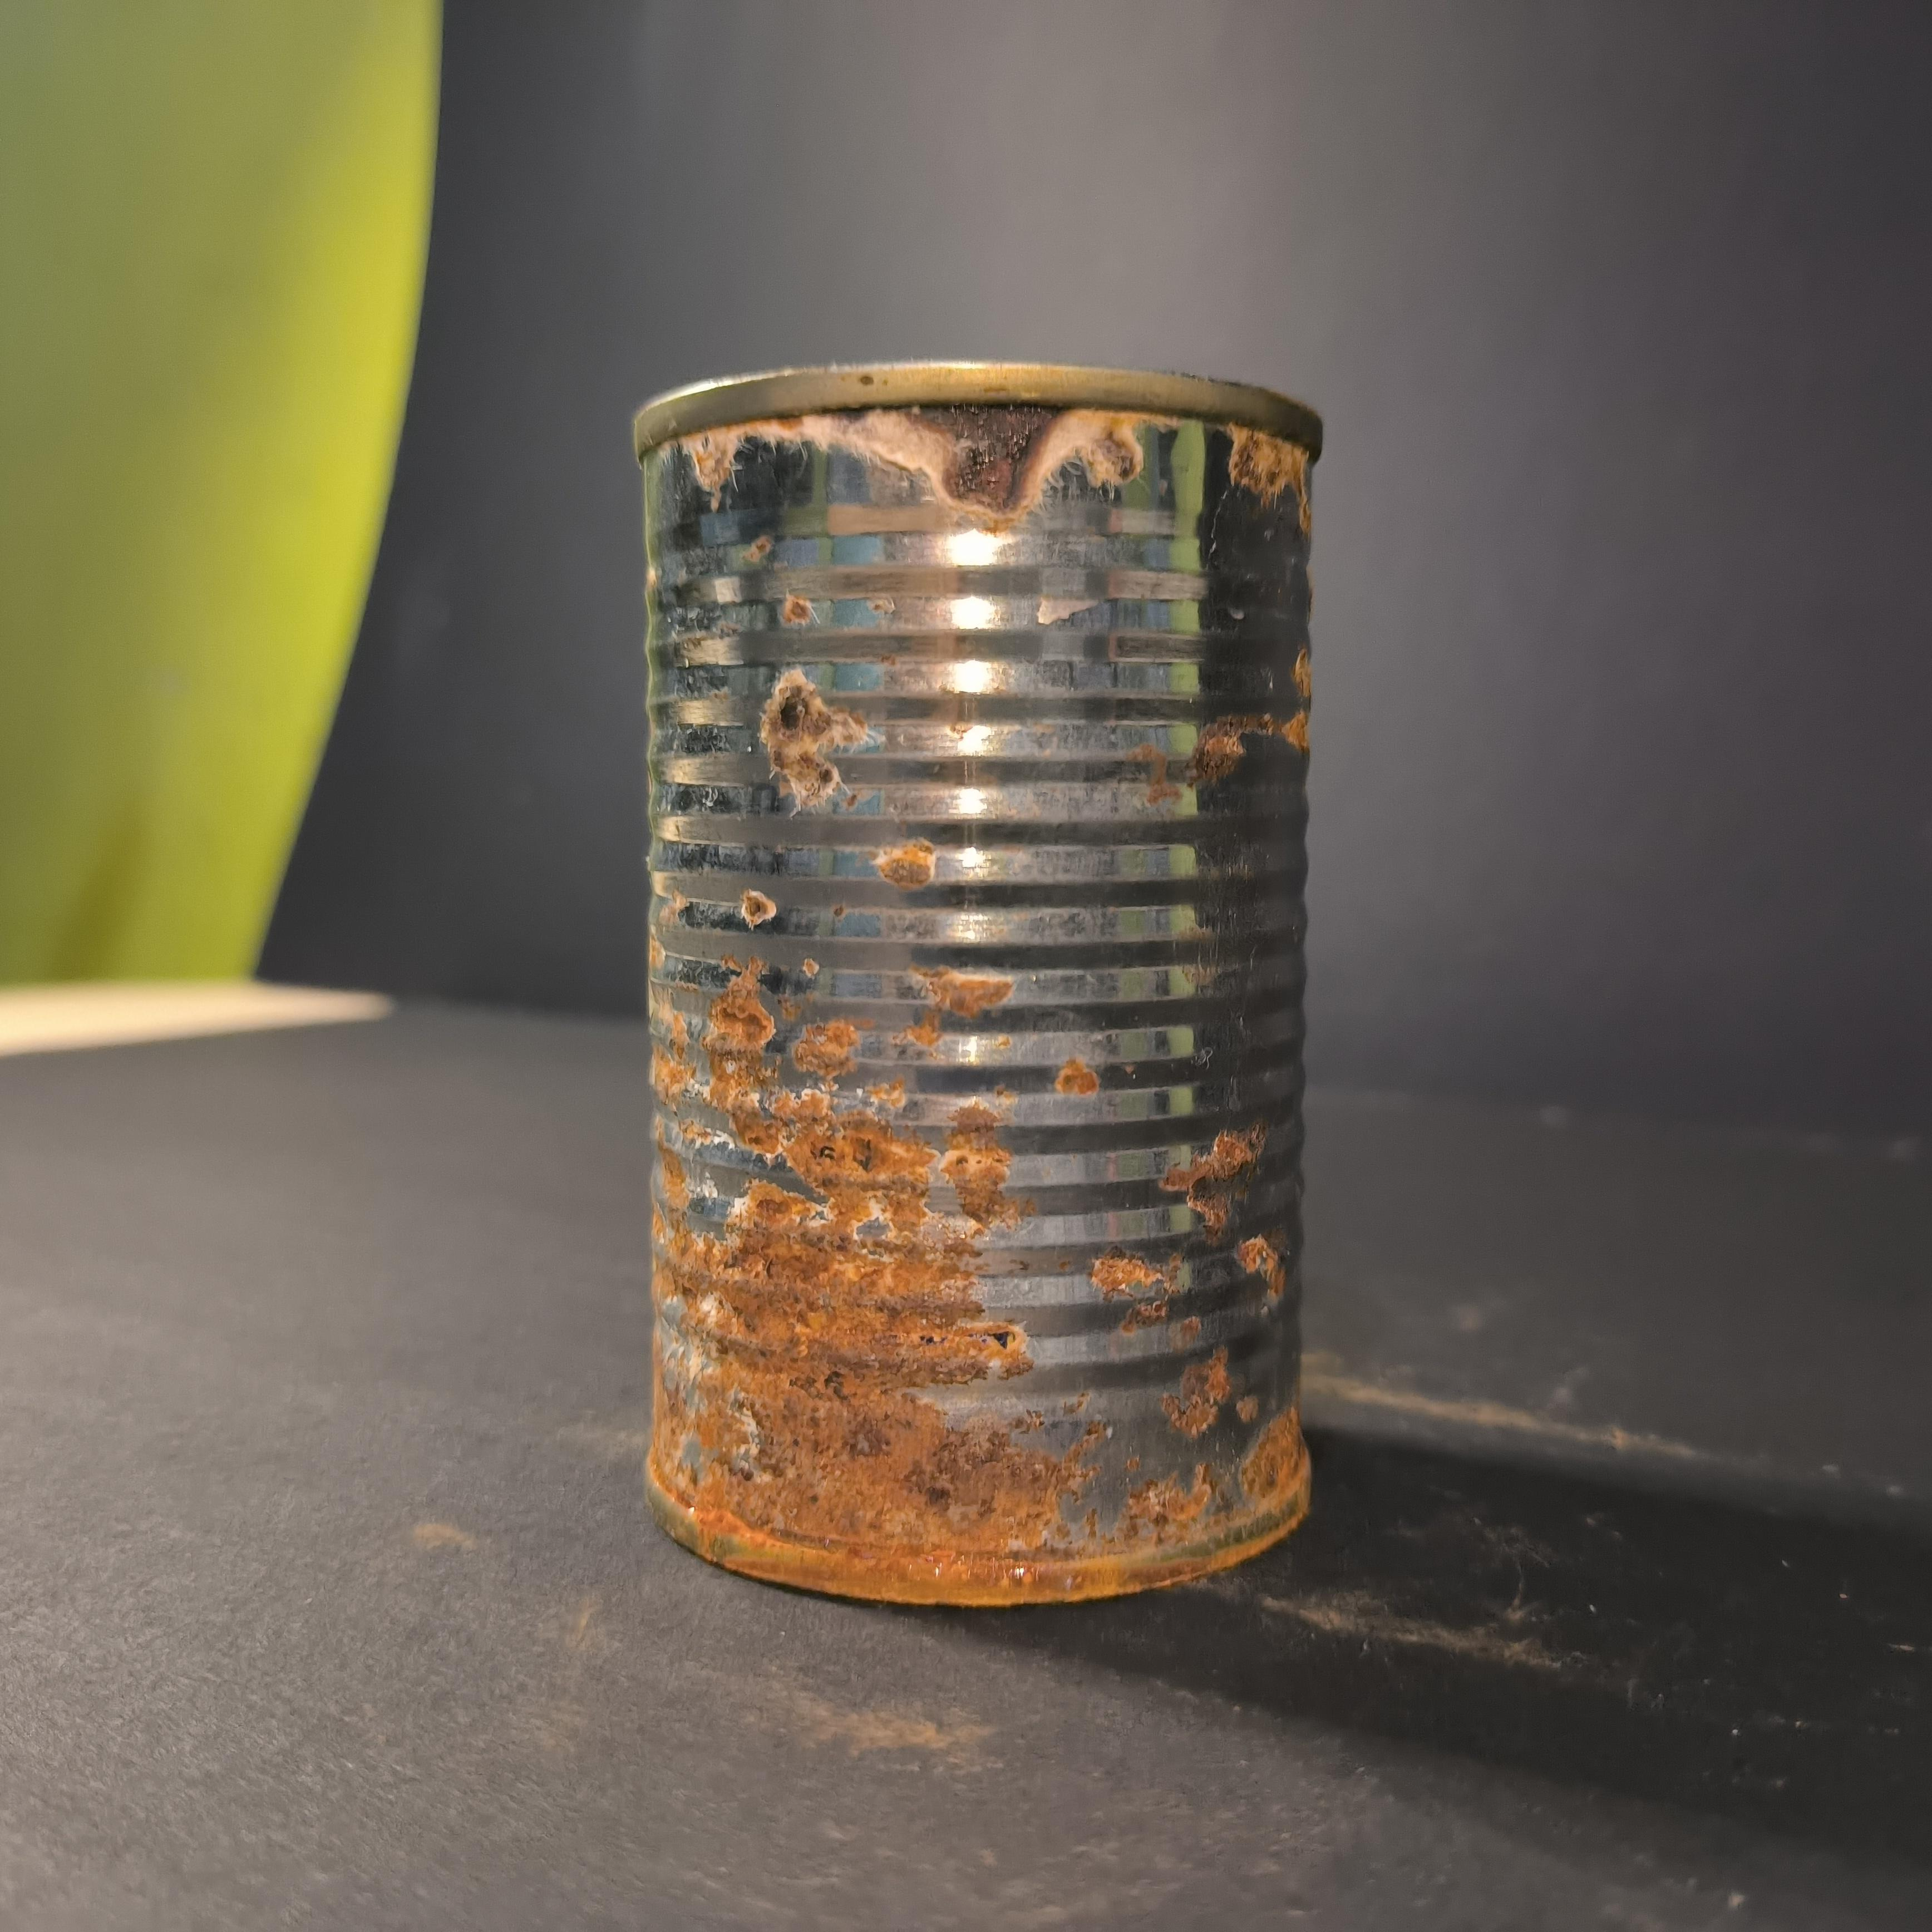Rusted: (609, 334, 1385, 1637)
